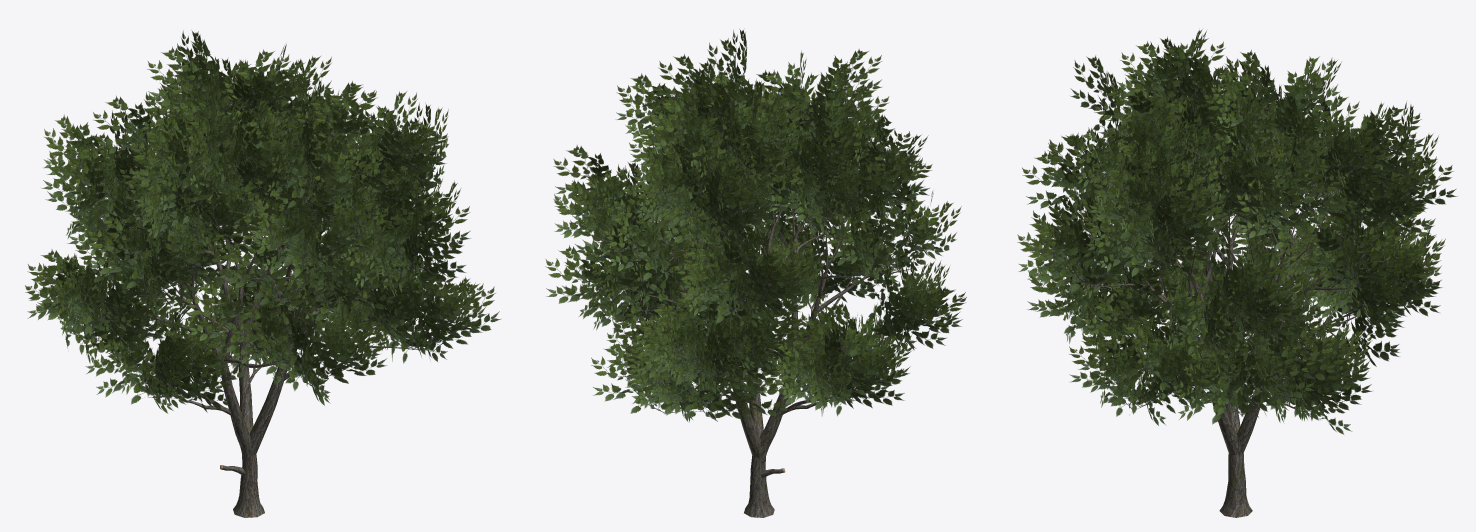
The model's file is tree_elm-transformed.glb.
3 views of the same model, side by side, from view 1: azimuth 30°, elevation 25°; view 2: azimuth 150°, elevation 25°; view 3: azimuth 270°, elevation 25° (orthographic). The views are drawn at different scales.
Visible parts, largest first — view 1: Plane.001_leaf_0, tree_bark_0; view 2: Plane.001_leaf_0, tree_bark_0; view 3: Plane.001_leaf_0, tree_bark_0.
Part boxes in pixels (<box>): Plane.001_leaf_0: <box>25,30,500,413</box>; tree_bark_0: <box>89,171,438,517</box>; Plane.001_leaf_0: <box>545,29,966,422</box>; tree_bark_0: <box>614,164,916,517</box>; Plane.001_leaf_0: <box>1017,29,1457,434</box>; tree_bark_0: <box>1064,147,1370,517</box>.
Bounding box in the file's own units: 22.95 × 22.31 × 20.17.
3 materials, 3 textured.
